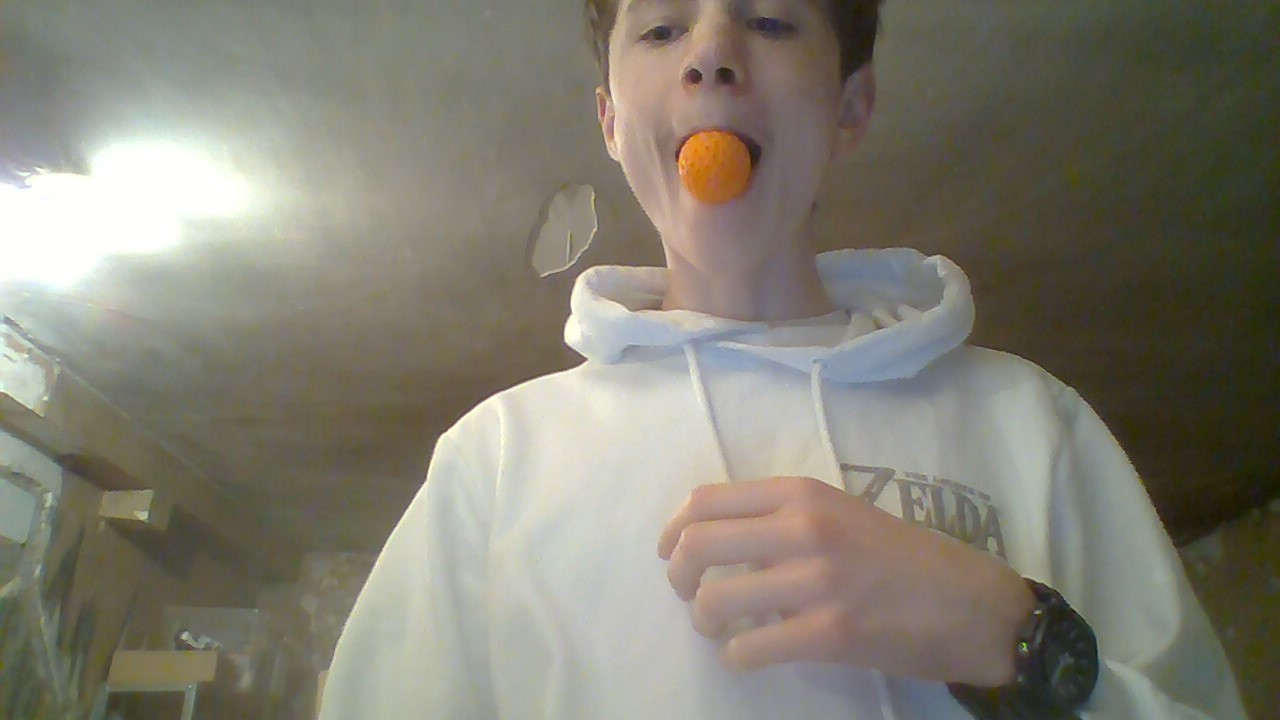ball: (676, 132, 751, 203)
